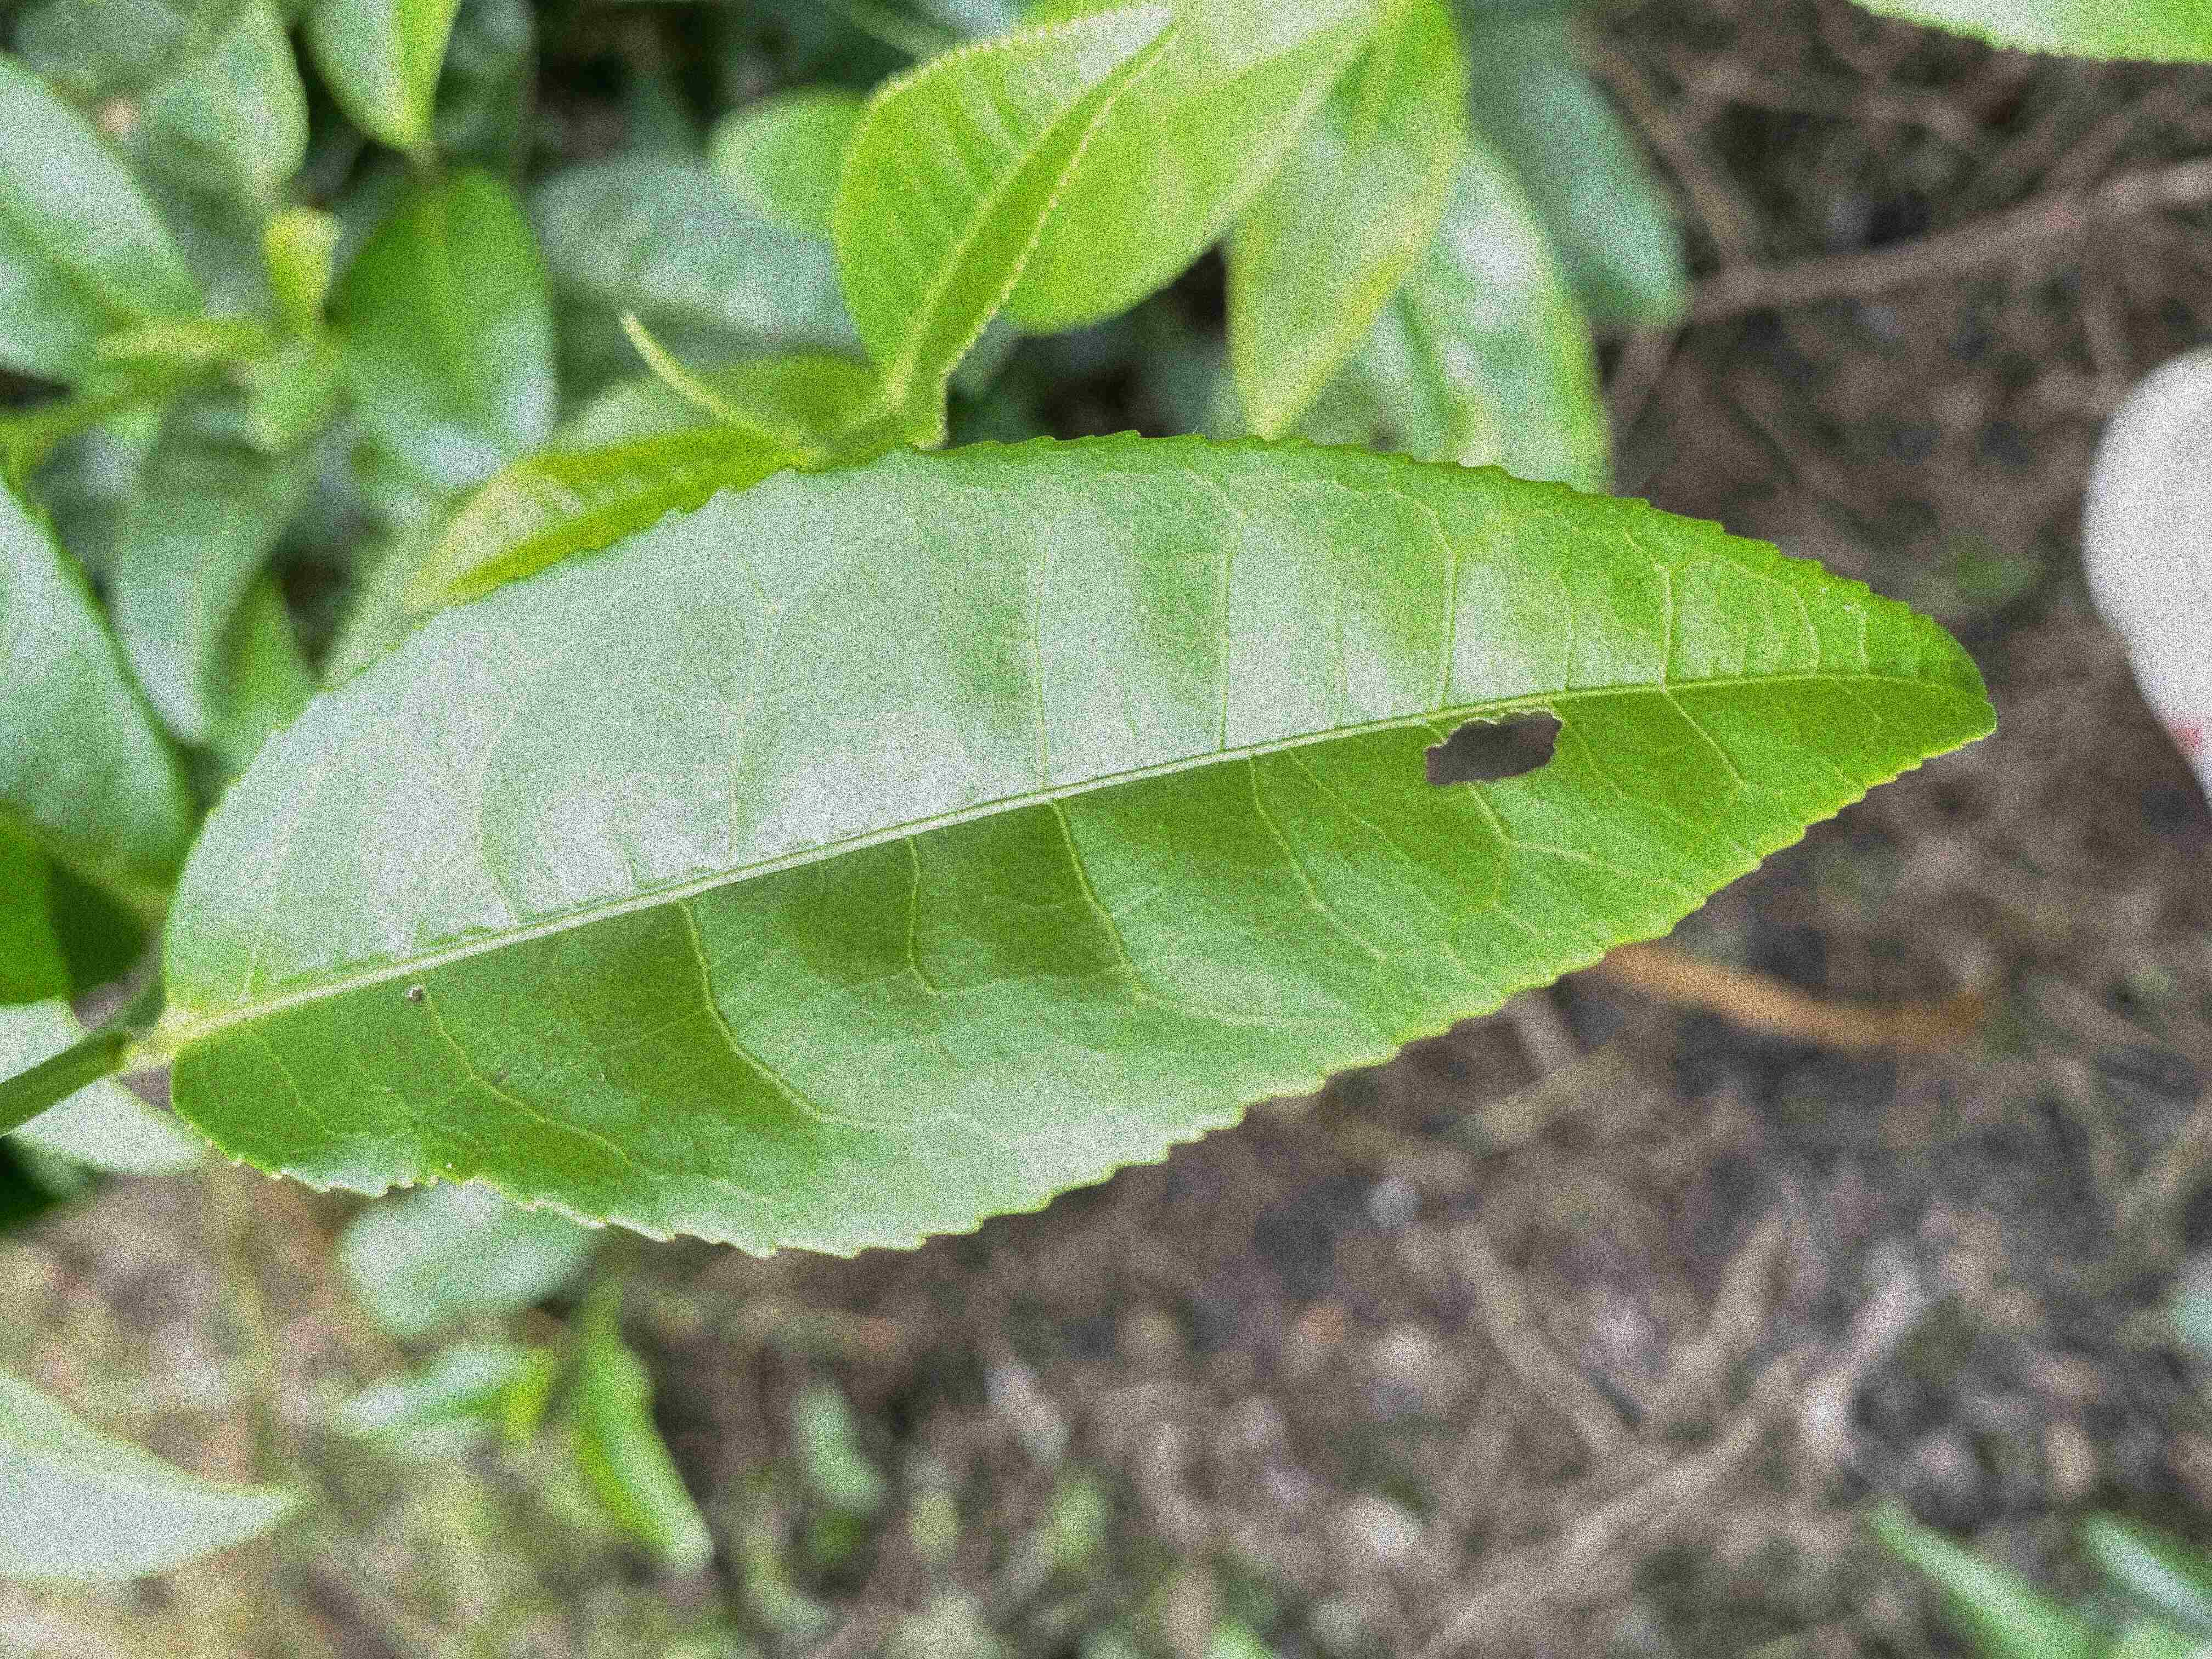chihuo_low: (162, 430, 2000, 1263)
healthy: (827, 3, 1183, 451)
